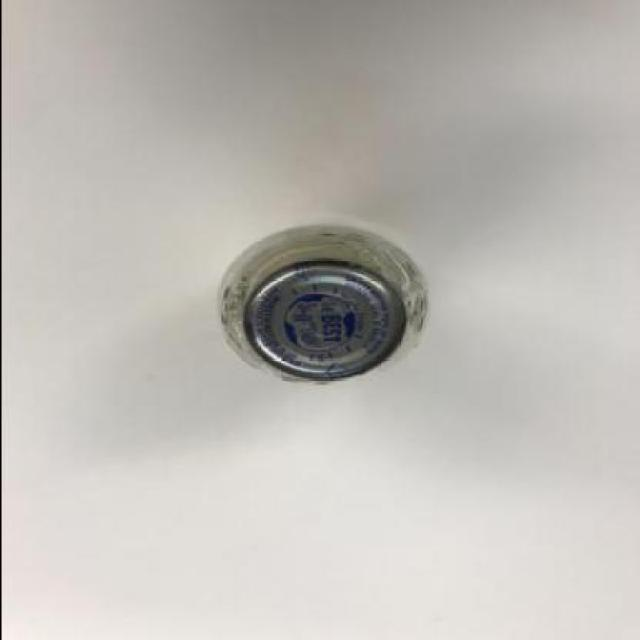METAL: (213, 222, 429, 387)
